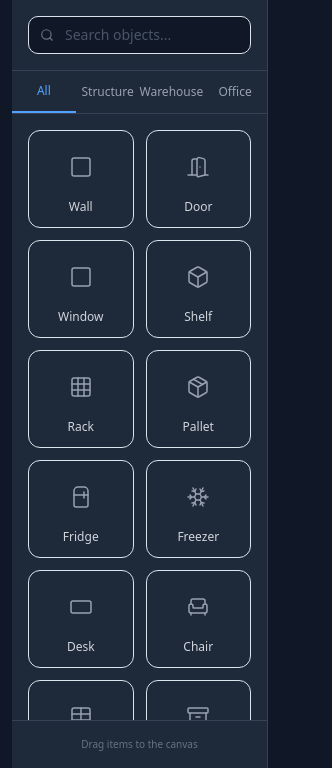
it: LibraryPanel Component › should combine category and search filters
The width and height of the screenshot is (332, 768).
# Select Warehouse category
Click the button "Warehouse" at (171, 92), box [140,71,203,113]
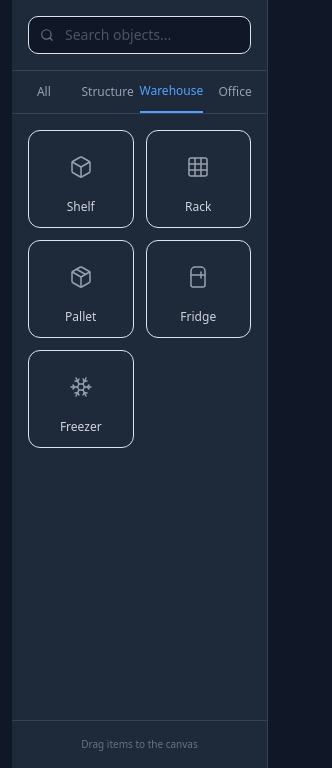
# Search for "shelf"
Type "shelf" into the field with placeholder "Search objects..." at (140, 35), box [28,16,251,54]
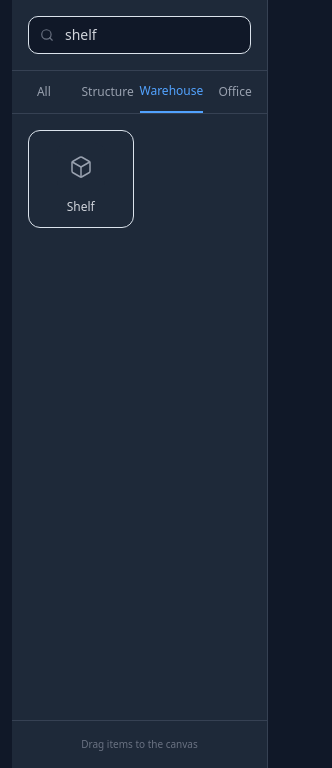
Expected: the text "Shelf" is shown, [67,199,95,215]
Expected: the button "Rack" is gone
Expected: the button "Fridge" is gone
